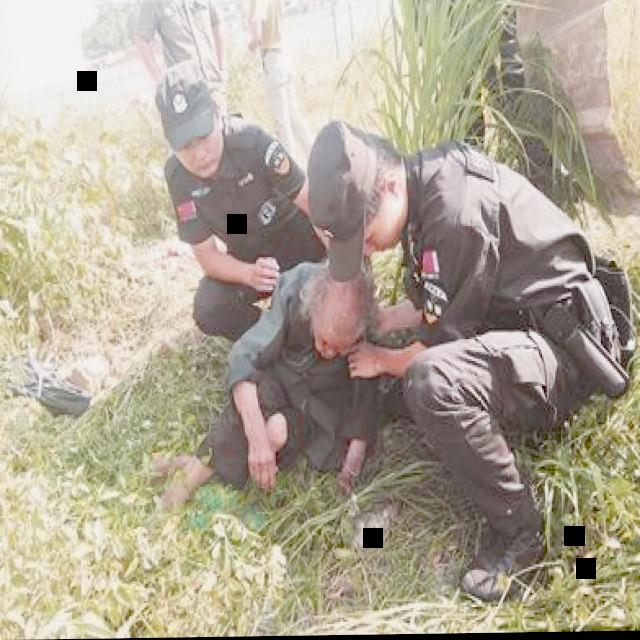Fall-Detected: (160, 237, 398, 540)
